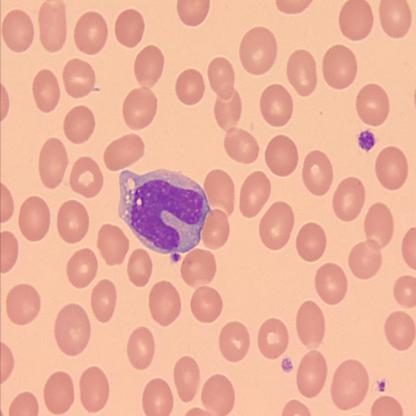Monocyte: (117, 166, 214, 264)
